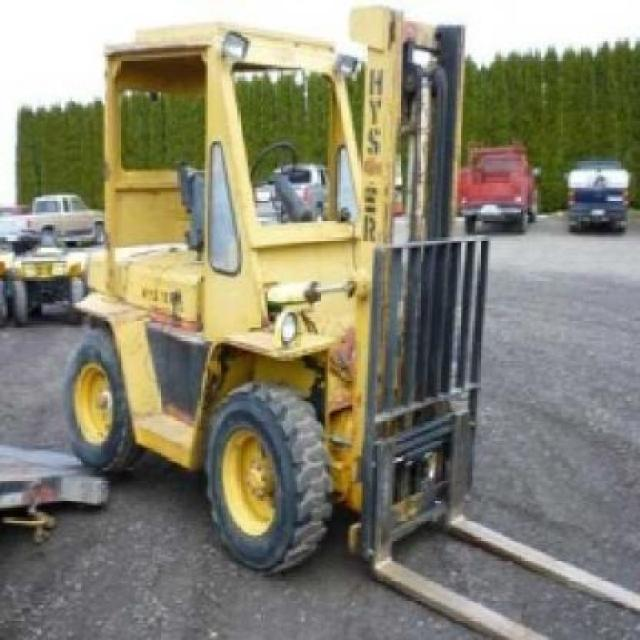forklift: (60, 2, 491, 575)
